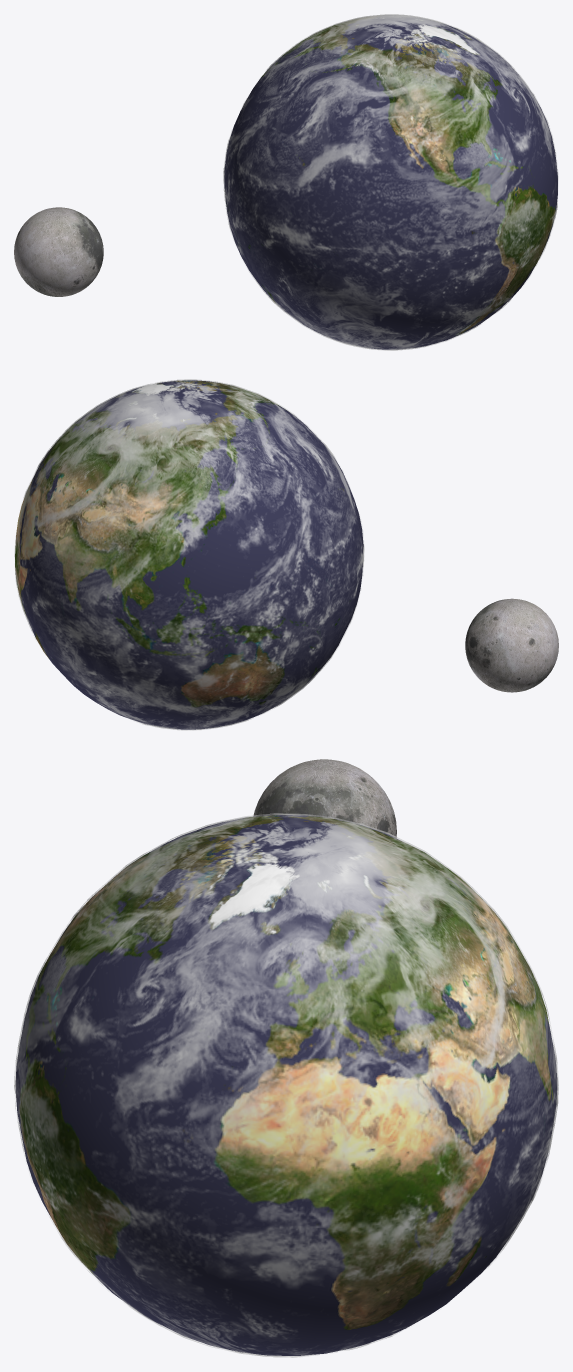
The model's file is AnothEarth.glb.
3 renders of one model, top to bottom at view 1: azimuth 30°, elevation 25°; view 2: azimuth 150°, elevation 25°; view 3: azimuth 270°, elevation 25°, orthographic. The views are drawn at different scales.
Parts seen in each view (by area): view 1: Earth_0, Clouds_1, moon; view 2: Earth_0, Clouds_1, moon; view 3: Earth_0, Clouds_1, moon.
Part boxes in pixels (<box>): Earth_0: <box>224,17,557,349</box>; Clouds_1: <box>223,14,558,350</box>; moon: <box>14,207,103,296</box>; Earth_0: <box>15,380,363,729</box>; Clouds_1: <box>14,379,364,730</box>; moon: <box>465,598,558,692</box>; Earth_0: <box>15,815,557,1355</box>; Clouds_1: <box>14,813,558,1357</box>; moon: <box>253,759,396,837</box>.
Size of the model in its own units: 308 by 177 by 177.
3 materials, 3 textured.
